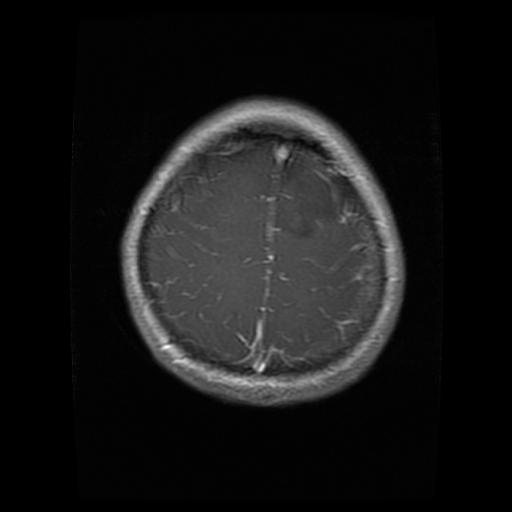Gliomia_tumour: (277, 159, 344, 234)
